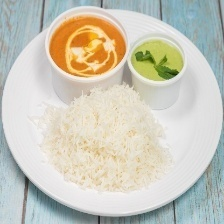dal: (48, 14, 126, 76)
